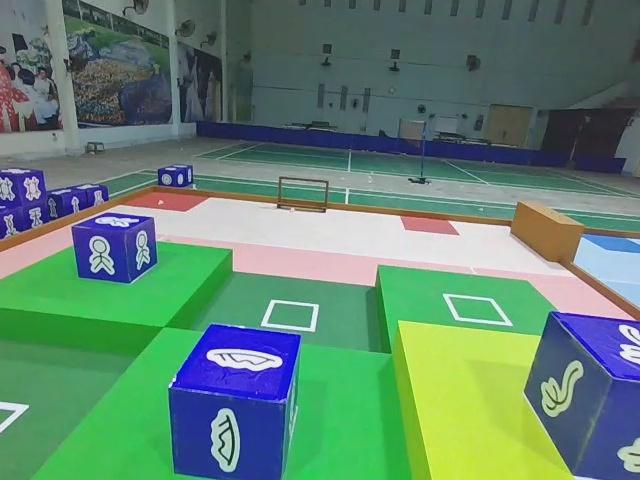R2 Real Blue: (166, 322, 302, 480), (522, 312, 639, 480), (72, 214, 160, 288), (0, 169, 48, 243)
